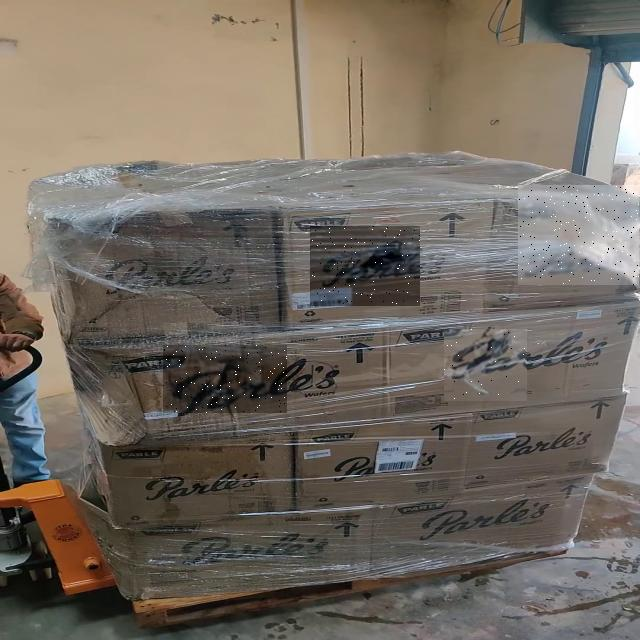squeeze: (519, 185, 639, 285)
tear: (311, 226, 420, 305), (163, 345, 287, 413), (445, 330, 525, 399)
